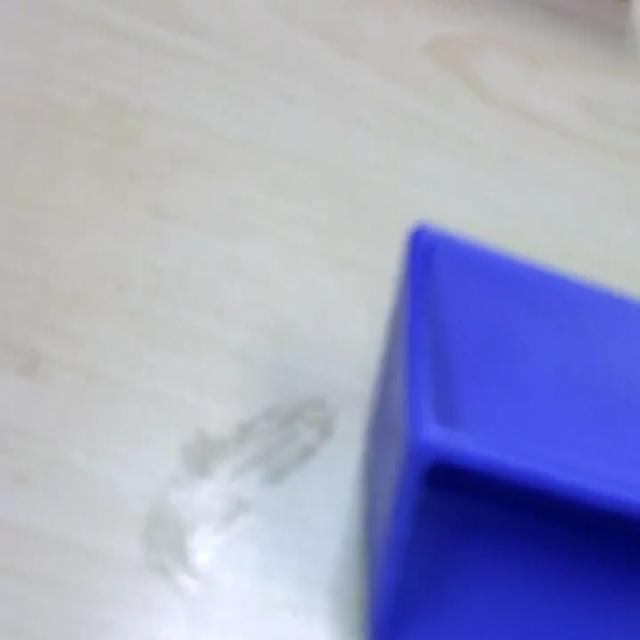blue_block: (362, 218, 638, 638)
